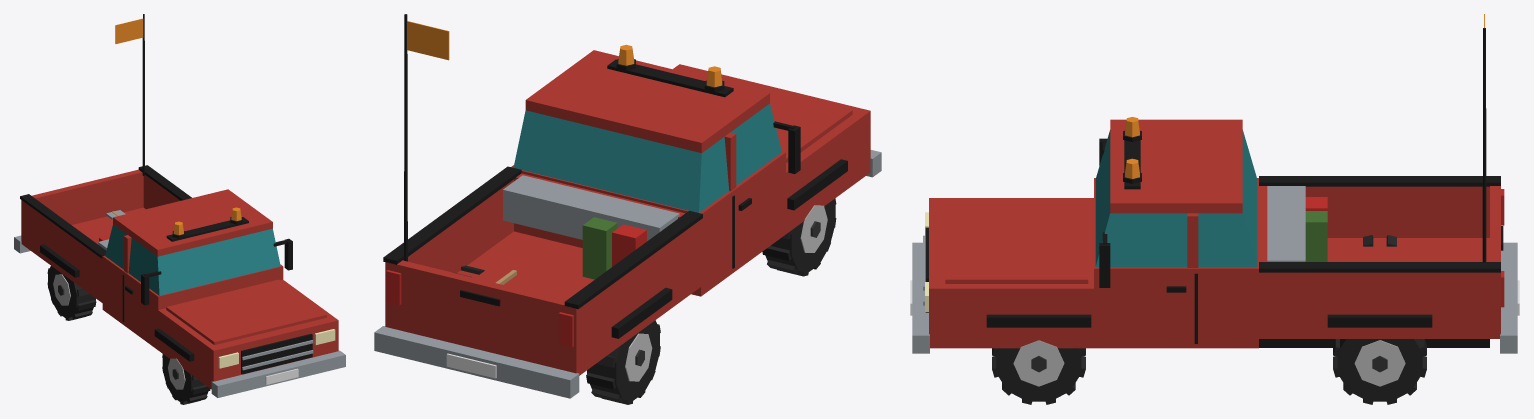
The model's file is Vehicle_Pickup.fbx.
3 views of the same model, side by side, from view 1: azimuth 30°, elevation 25°; view 2: azimuth 150°, elevation 25°; view 3: azimuth 270°, elevation 25° (orthographic). The views are drawn at different scales.
Parts seen in each view (by area): view 1: Vehicle_Pickup, Vehicle_Pickup_Wheel_RR, Vehicle_Pickup_Wheel_FR; view 2: Vehicle_Pickup, Vehicle_Pickup_Wheel_RR, Vehicle_Pickup_Wheel_FR; view 3: Vehicle_Pickup, Vehicle_Pickup_Wheel_RL, Vehicle_Pickup_Wheel_FL.
Boxes of the visible parts, left/top/right/bottom form: Vehicle_Pickup: left=14, top=14, right=345, bottom=397; Vehicle_Pickup_Wheel_RR: left=47, top=266, right=96, bottom=320; Vehicle_Pickup_Wheel_FR: left=162, top=354, right=210, bottom=404; Vehicle_Pickup: left=374, top=14, right=881, bottom=398; Vehicle_Pickup_Wheel_RR: left=586, top=320, right=660, bottom=404; Vehicle_Pickup_Wheel_FR: left=762, top=198, right=836, bottom=276; Vehicle_Pickup: left=910, top=14, right=1519, bottom=353; Vehicle_Pickup_Wheel_RL: left=1333, top=339, right=1426, bottom=404; Vehicle_Pickup_Wheel_FL: left=992, top=340, right=1085, bottom=404.
Bounding box in the file's own units: 2.31 × 3.73 × 5.54.
